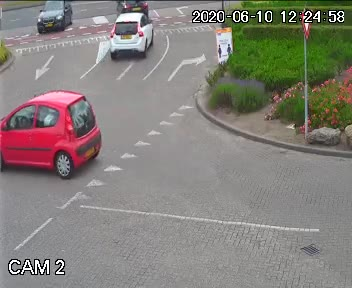car: (0, 82, 102, 177), (102, 20, 154, 69), (26, 0, 83, 38), (112, 0, 150, 13)
